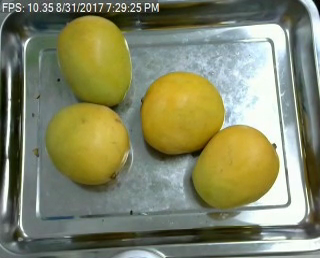Mango: (142, 69, 228, 154), (44, 102, 131, 185), (193, 124, 277, 208), (56, 16, 131, 104)
